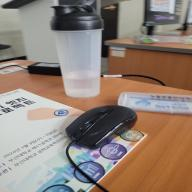mouse: (67, 104, 138, 146)
